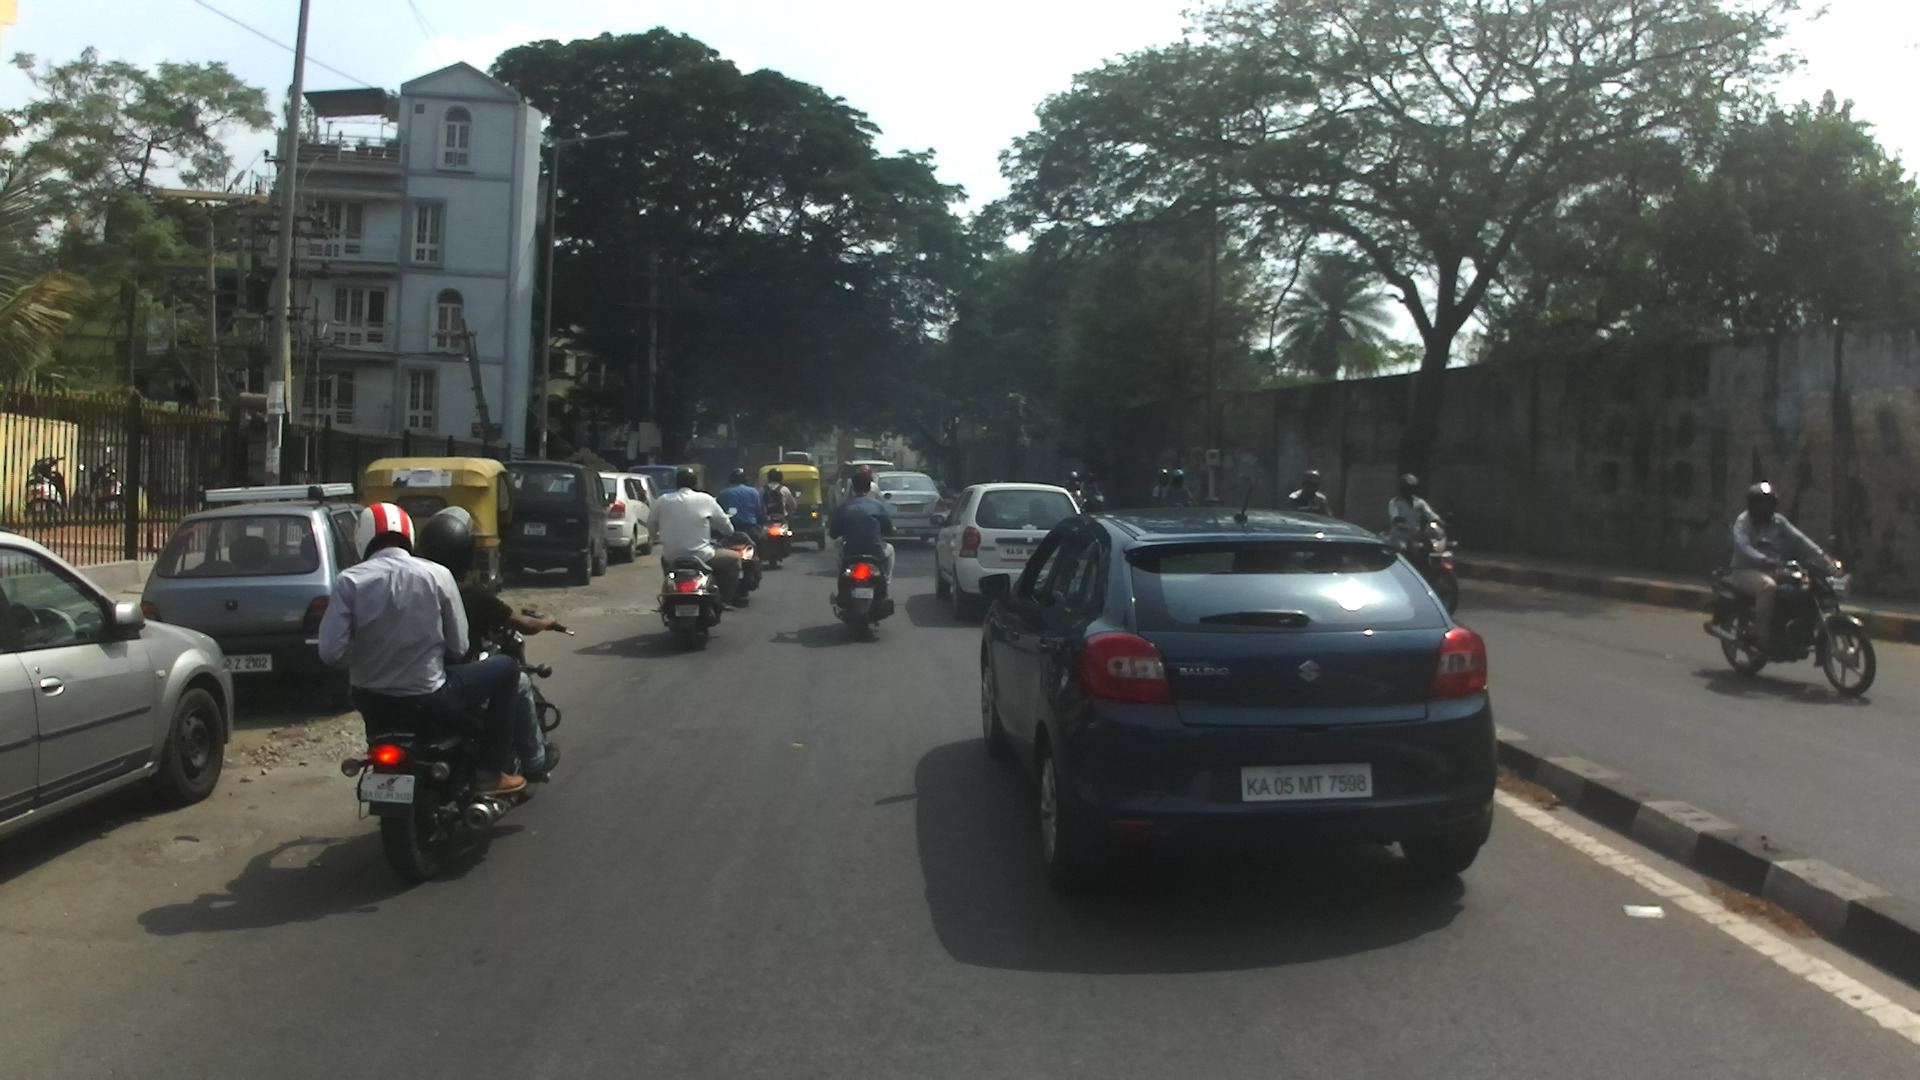autorickshaw: (359, 458, 510, 623), (752, 462, 827, 552), (817, 462, 841, 511), (681, 461, 707, 495)
car: (978, 480, 1500, 894), (1, 526, 235, 836), (138, 483, 375, 732), (929, 481, 1084, 622), (492, 458, 618, 591), (588, 473, 658, 566), (863, 472, 944, 542), (829, 459, 897, 521), (630, 463, 682, 514)
motorcycle: (340, 606, 577, 883), (1703, 534, 1877, 695), (645, 504, 740, 649), (1387, 511, 1464, 614), (829, 531, 896, 632), (709, 502, 768, 608), (749, 487, 809, 570), (77, 446, 124, 530), (24, 451, 69, 528), (838, 493, 894, 544), (1088, 493, 1110, 511), (1070, 490, 1085, 514), (936, 485, 947, 496)
rider: (317, 498, 533, 790), (414, 502, 561, 788), (1729, 482, 1834, 654), (650, 469, 737, 604), (828, 466, 896, 592), (1386, 474, 1447, 545), (716, 464, 760, 542), (1283, 468, 1332, 525), (756, 470, 802, 528), (849, 468, 876, 521), (1162, 470, 1194, 508), (1150, 463, 1168, 509), (1062, 470, 1081, 492), (1081, 469, 1101, 492), (934, 474, 947, 489)
vehicle fallback: (776, 447, 815, 472)
